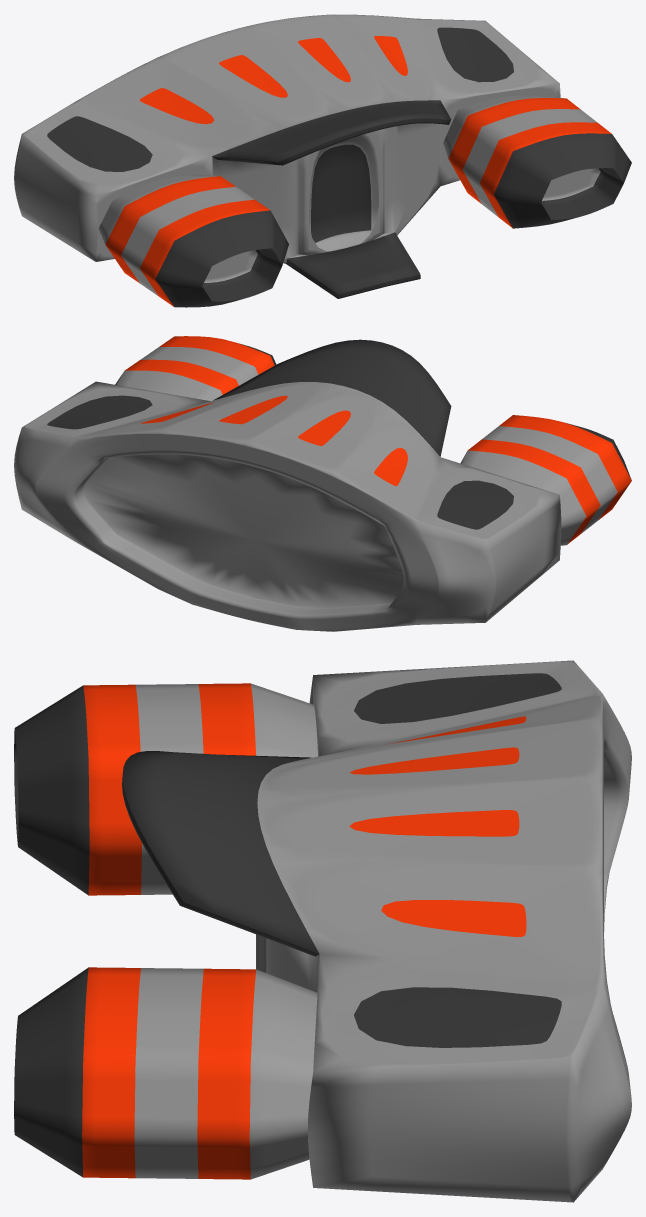
The model's file is Modular_Engines_01.FBX.
The picture shows the model from 3 angles, top to bottom: view 1: azimuth 30°, elevation 25°; view 2: azimuth 150°, elevation 25°; view 3: azimuth 270°, elevation 25°; orthographic projection. The views are drawn at different scales.
Visible parts, largest first — view 1: Engines; view 2: Engines; view 3: Engines.
Part boxes in pixels (box(x1,y1,x2,y2)): Engines: box(14, 14, 631, 307); Engines: box(14, 336, 631, 631); Engines: box(14, 660, 631, 1202).
Size of the model in its own units: 466 by 163 by 295.
